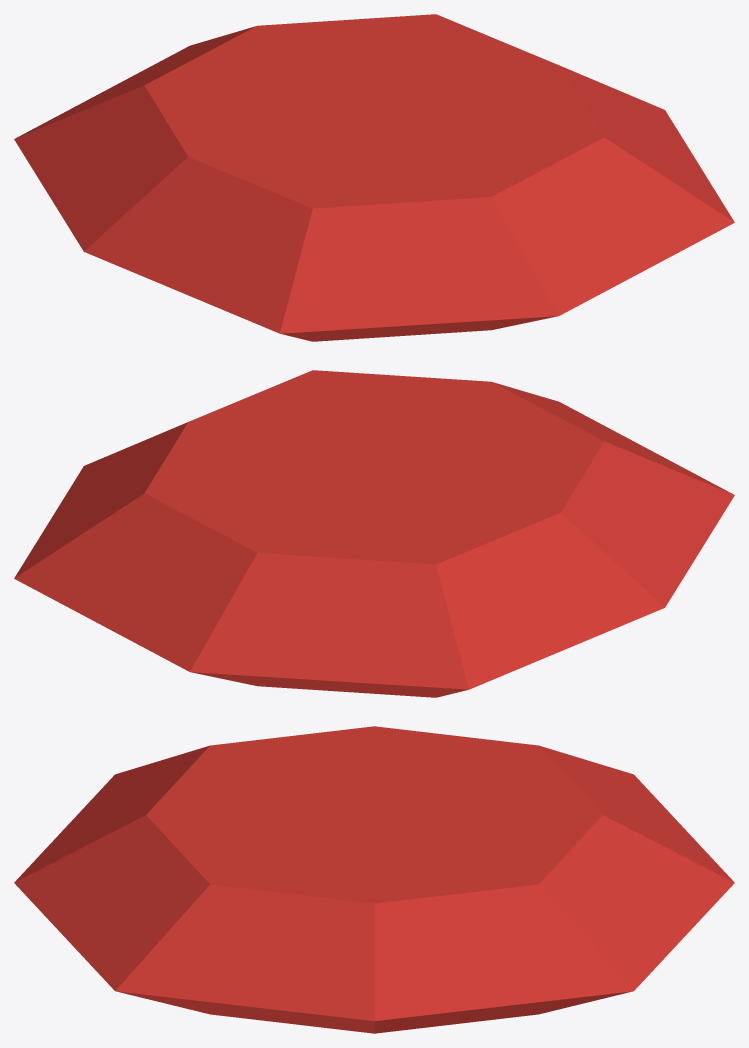
Rendered from Gem.fbx.
3 views of the same model, one above another, from view 1: azimuth 30°, elevation 25°; view 2: azimuth 150°, elevation 25°; view 3: azimuth 270°, elevation 25° (orthographic). The views are drawn at different scales.
Parts seen in each view (by area): view 1: Cube.012; view 2: Cube.012; view 3: Cube.012.
Boxes of the visible parts, <box> form: Cube.012: <box>14,14,734,341</box>; Cube.012: <box>14,370,734,697</box>; Cube.012: <box>14,726,734,1033</box>.
Size of the model in its own units: 11.35 by 2.49 by 12.5.
